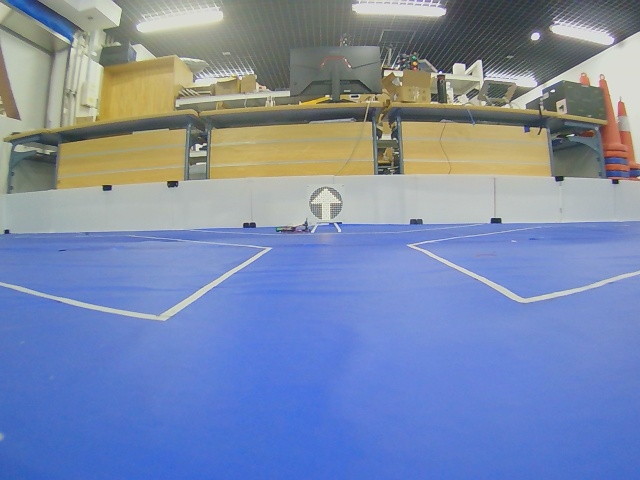straight_yellow: (309, 187, 343, 220)
